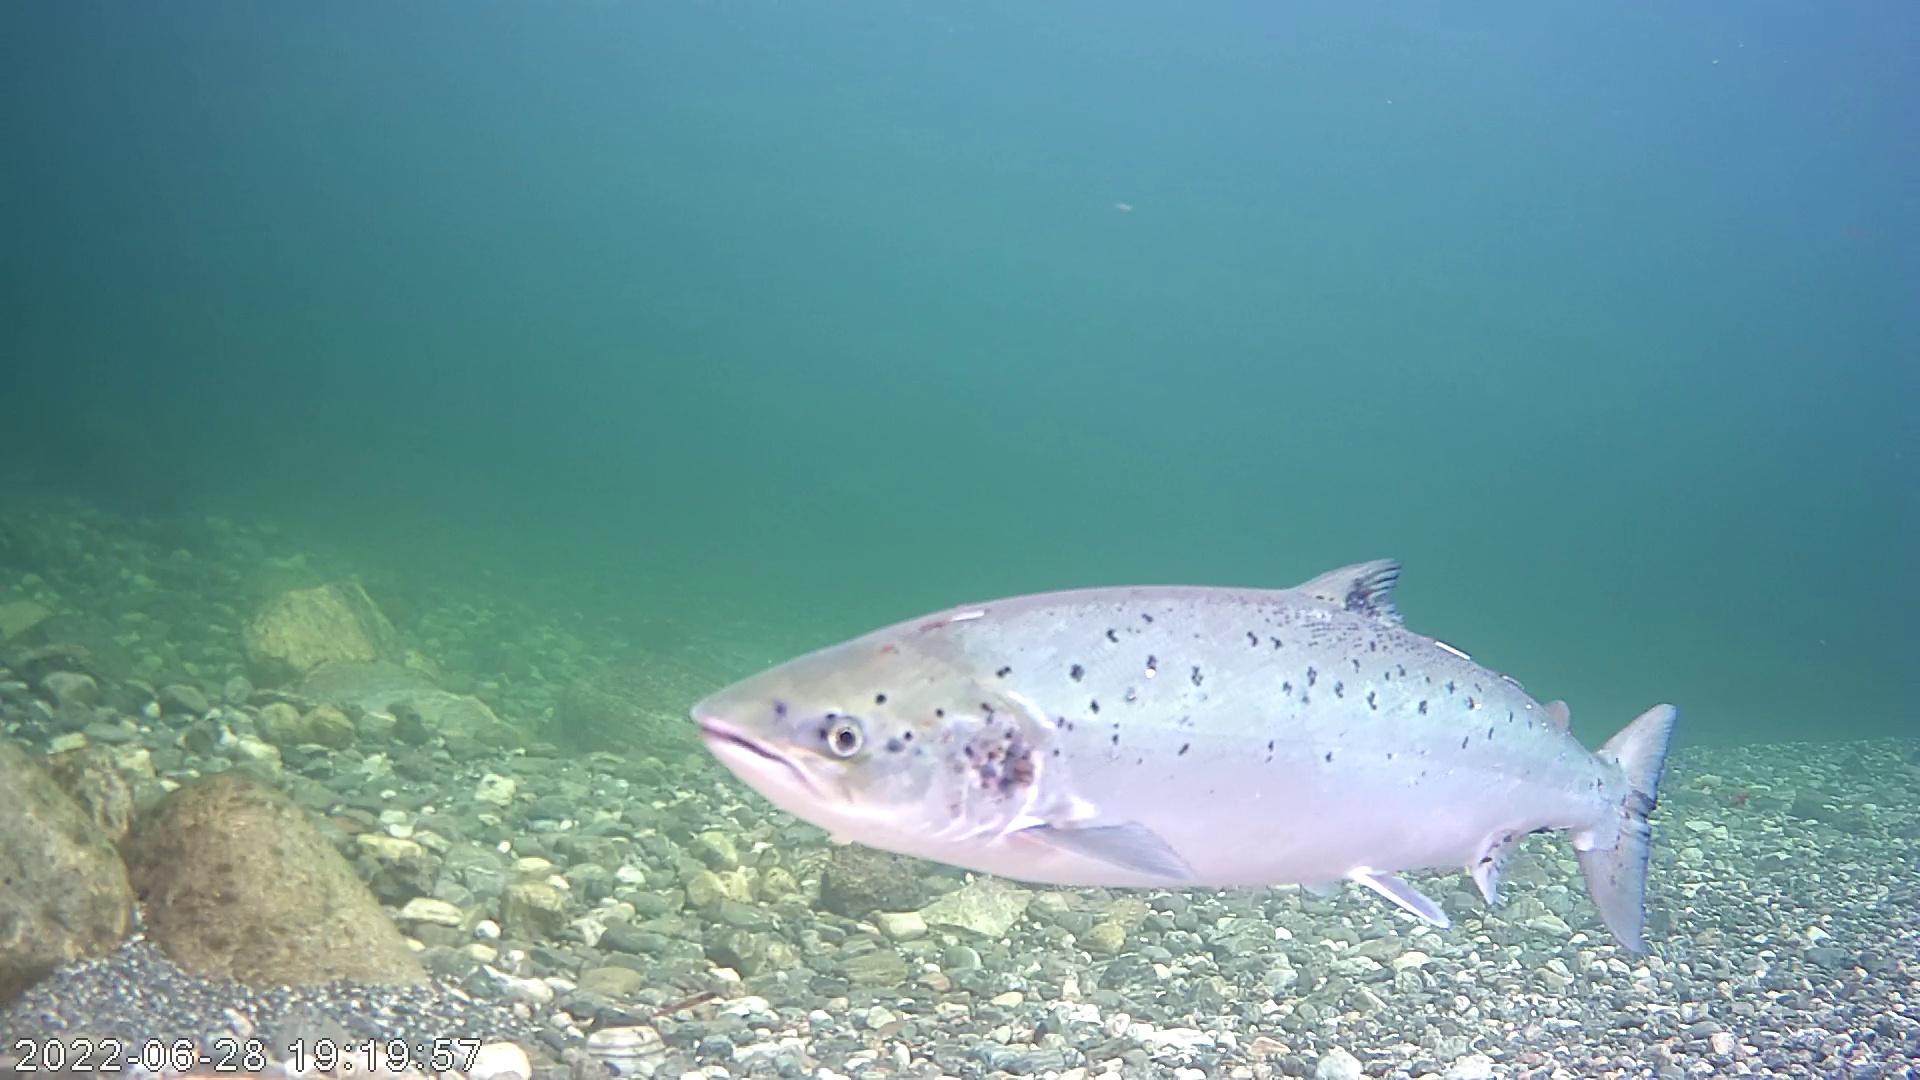salmon: (671, 467, 1687, 903)
